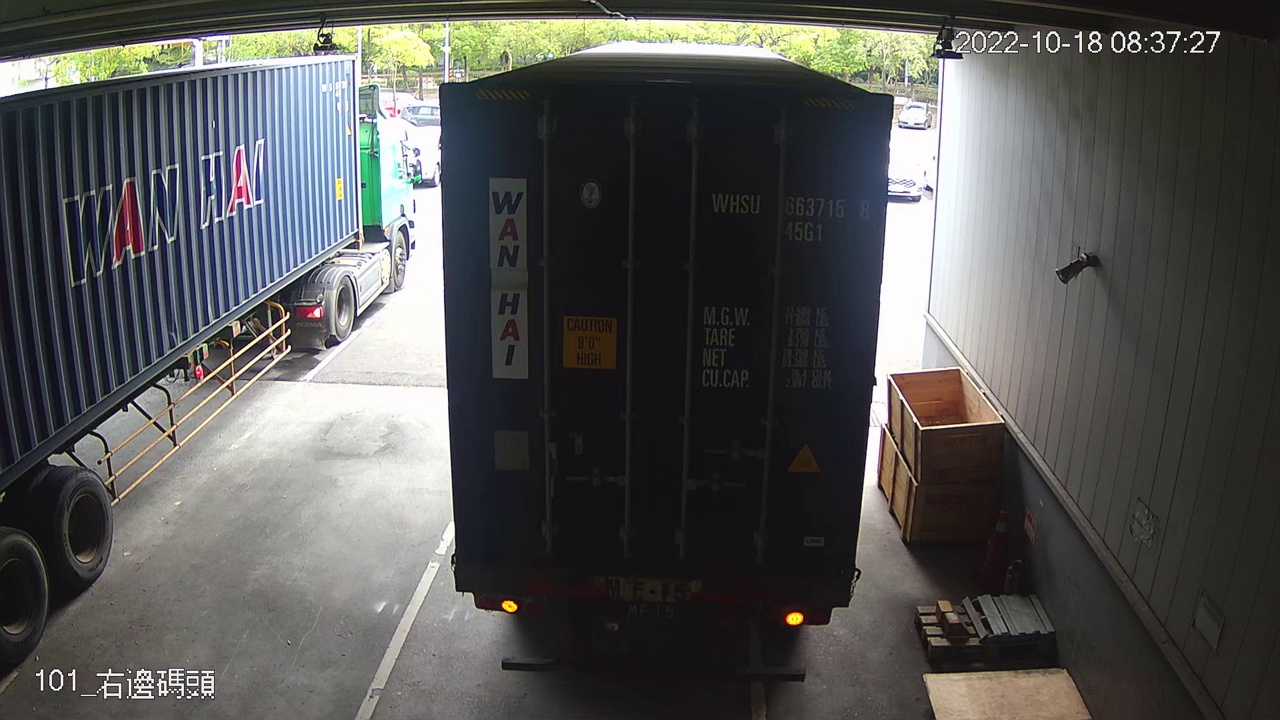container: (705, 185, 876, 247)
